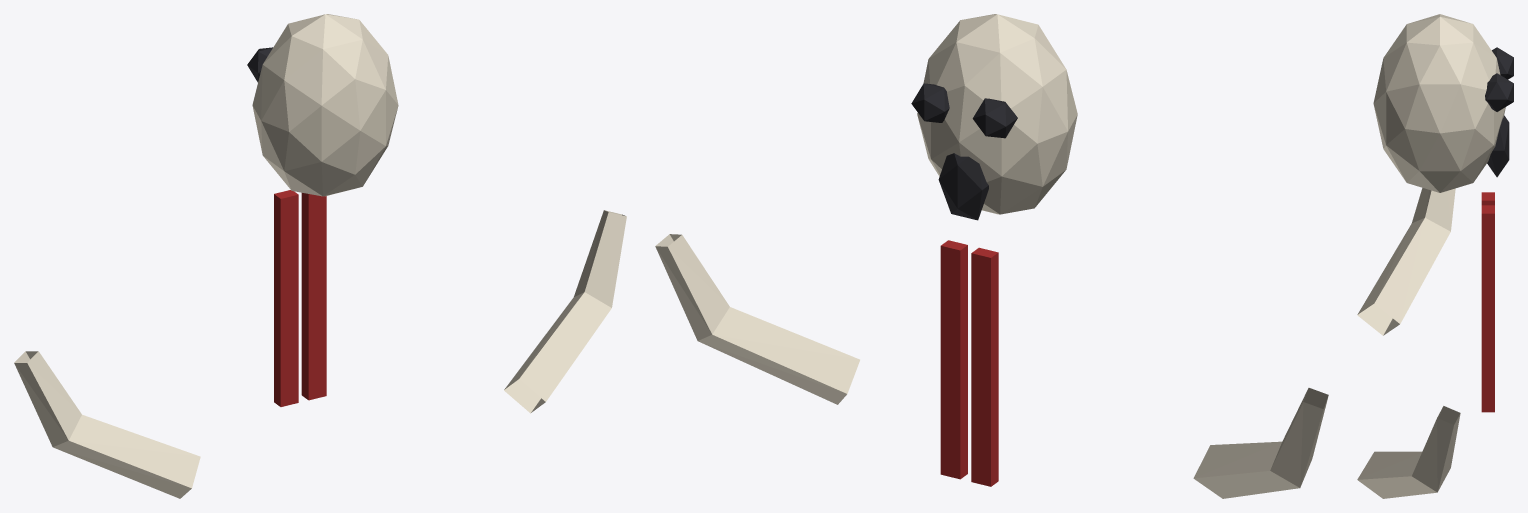
File: Circle6Piece_MaidenFaceOut.obj
The picture shows the model from 3 angles, left to right: view 1: azimuth 30°, elevation 25°; view 2: azimuth 150°, elevation 25°; view 3: azimuth 270°, elevation 25°; orthographic projection. The views are drawn at different scales.
Parts seen in each view (by area): view 1: Circle6Piece_MaidenFaceOut; view 2: Circle6Piece_MaidenFaceOut; view 3: Circle6Piece_MaidenFaceOut.
Part boxes in pixels (<box>): Circle6Piece_MaidenFaceOut: <box>14,14,626,498</box>; Circle6Piece_MaidenFaceOut: <box>655,14,1328,498</box>; Circle6Piece_MaidenFaceOut: <box>1357,14,1513,498</box>.
Size of the model in its own units: 1.83 by 1.21 by 0.4289.
Materials: 1 (1 with a texture image).
